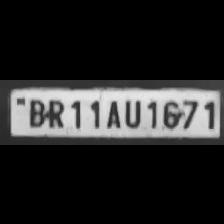1: (198, 97, 218, 129), (65, 96, 84, 128), (85, 96, 103, 128), (142, 97, 160, 128)
6: (159, 96, 181, 128)
7: (180, 96, 198, 130)
A: (102, 96, 122, 128)
B: (25, 96, 45, 128)
R: (43, 96, 65, 128)
U: (121, 95, 143, 127)
